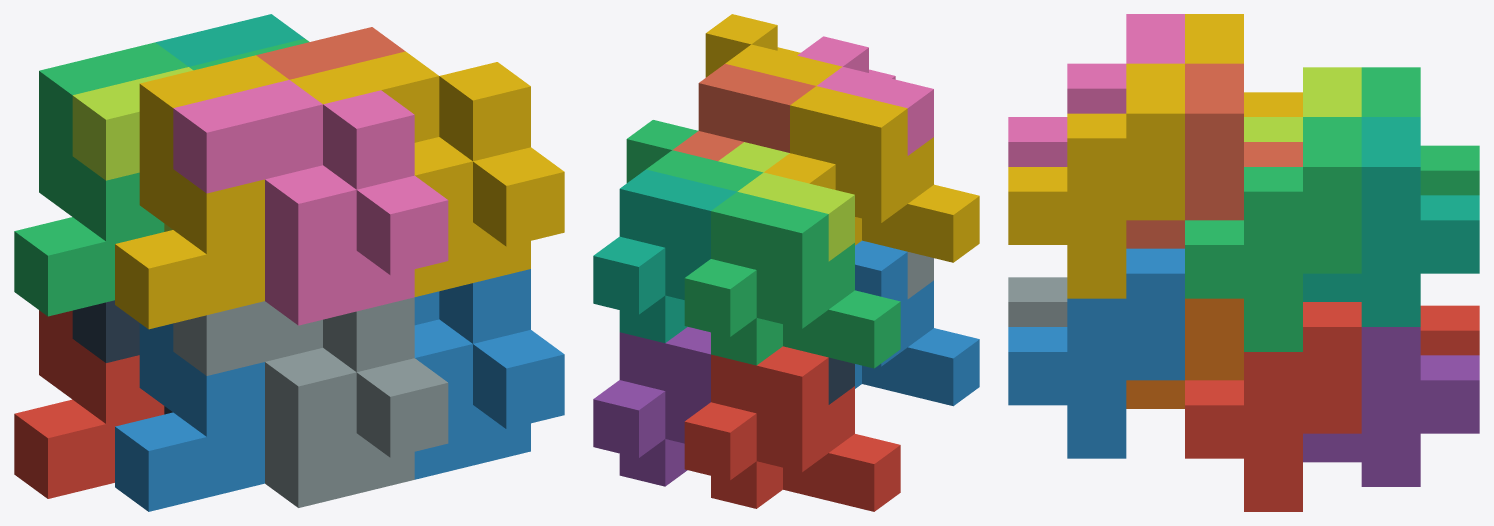
The model's file is tiling.obj.
The picture shows the model from 3 angles, left to right: view 1: azimuth 30°, elevation 25°; view 2: azimuth 150°, elevation 25°; view 3: azimuth 270°, elevation 25°; orthographic projection. The views are drawn at different scales.
Parts seen in each view (by area): view 1: copy_2_domain_4, copy_2_domain_2, copy_2_domain_8, copy_1_domain_4, copy_2_domain_6, copy_1_domain_3, copy_1_domain_2, copy_1_domain_1, copy_2_domain_3, copy_1_domain_8, copy_1_domain_7, copy_2_domain_1 (+1 smaller); view 2: copy_1_domain_3, copy_1_domain_1, copy_1_domain_4, copy_1_domain_7, copy_1_domain_5, copy_1_domain_2, copy_1_domain_8, copy_2_domain_4, copy_2_domain_8, copy_2_domain_3, copy_2_domain_7, copy_2_domain_1 (+1 smaller); view 3: copy_2_domain_8, copy_2_domain_7, copy_2_domain_6, copy_2_domain_5, copy_1_domain_7, copy_1_domain_5, copy_1_domain_8, copy_2_domain_4, copy_1_domain_6, copy_1_domain_3, copy_1_domain_4, copy_2_domain_3 (+2 smaller).
Part boxes in pixels (box(x1,y1,x2,y2)): copy_2_domain_4: box(173, 80, 448, 325); copy_2_domain_2: box(173, 297, 448, 507); copy_2_domain_8: box(290, 51, 564, 296); copy_1_domain_4: box(115, 55, 288, 329); copy_2_domain_6: box(414, 269, 564, 479); copy_1_domain_3: box(14, 42, 188, 316); copy_1_domain_2: box(115, 323, 264, 511); copy_1_domain_1: box(14, 310, 164, 498); copy_2_domain_3: box(72, 67, 193, 231); copy_1_domain_8: box(256, 27, 405, 79); copy_1_domain_7: box(155, 14, 304, 66); copy_2_domain_1: box(72, 300, 172, 414); copy_1_domain_3: box(684, 192, 900, 368); copy_1_domain_1: box(684, 346, 900, 511); copy_1_domain_4: box(764, 86, 979, 262); copy_1_domain_7: box(593, 169, 736, 342); copy_1_domain_5: box(593, 327, 710, 486); copy_1_domain_2: box(855, 240, 979, 406); copy_1_domain_8: box(672, 64, 815, 161); copy_2_domain_4: box(797, 36, 933, 155); copy_2_domain_8: box(705, 14, 842, 85); copy_2_domain_3: box(718, 142, 854, 261); copy_2_domain_7: box(626, 120, 763, 191); copy_2_domain_1: box(828, 357, 854, 404); copy_2_domain_8: box(1008, 63, 1184, 298); copy_2_domain_7: box(1185, 117, 1361, 351); copy_2_domain_6: box(1008, 248, 1184, 458); copy_2_domain_5: box(1185, 302, 1361, 511); copy_1_domain_7: box(1303, 117, 1479, 326); copy_1_domain_5: box(1303, 327, 1479, 486); copy_1_domain_8: box(1126, 63, 1302, 248); copy_2_domain_4: box(1008, 14, 1184, 166); copy_1_domain_6: box(1126, 298, 1243, 408); copy_1_domain_3: box(1361, 67, 1479, 195); copy_1_domain_4: box(1185, 14, 1302, 116); copy_2_domain_3: box(1244, 67, 1361, 141).
Size of the model in its own units: 6 by 7 by 8.
